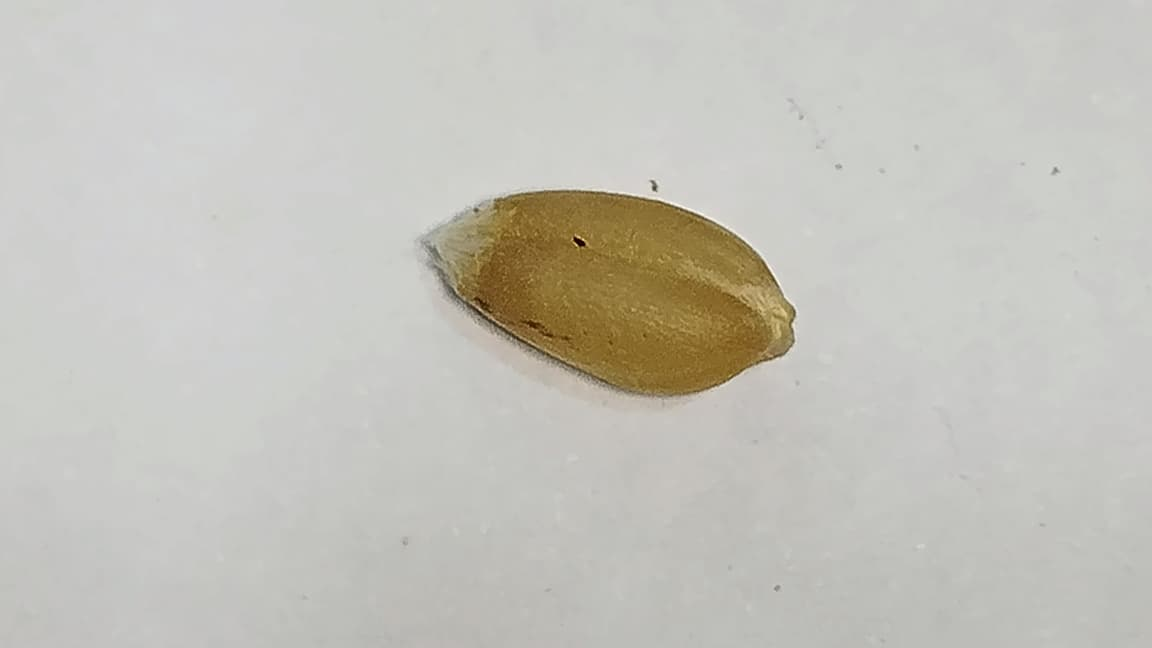healthy: (421, 190, 794, 395)
